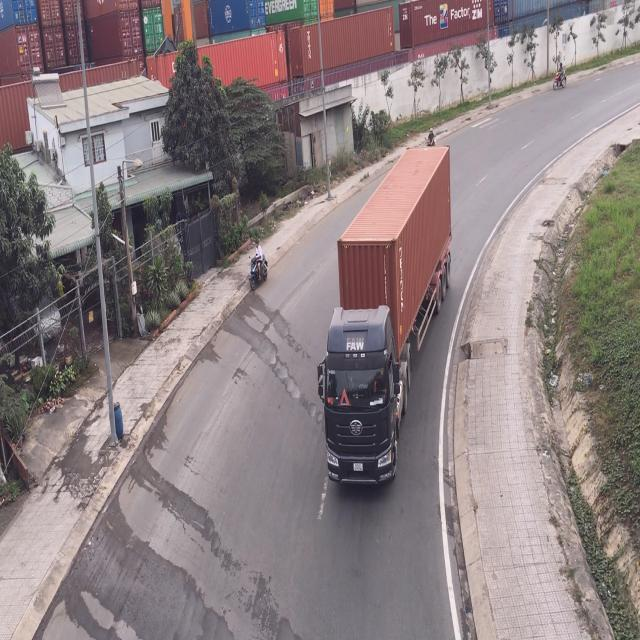motorbike: (248, 245, 268, 294), (553, 54, 568, 94)
truck: (323, 145, 452, 497)
